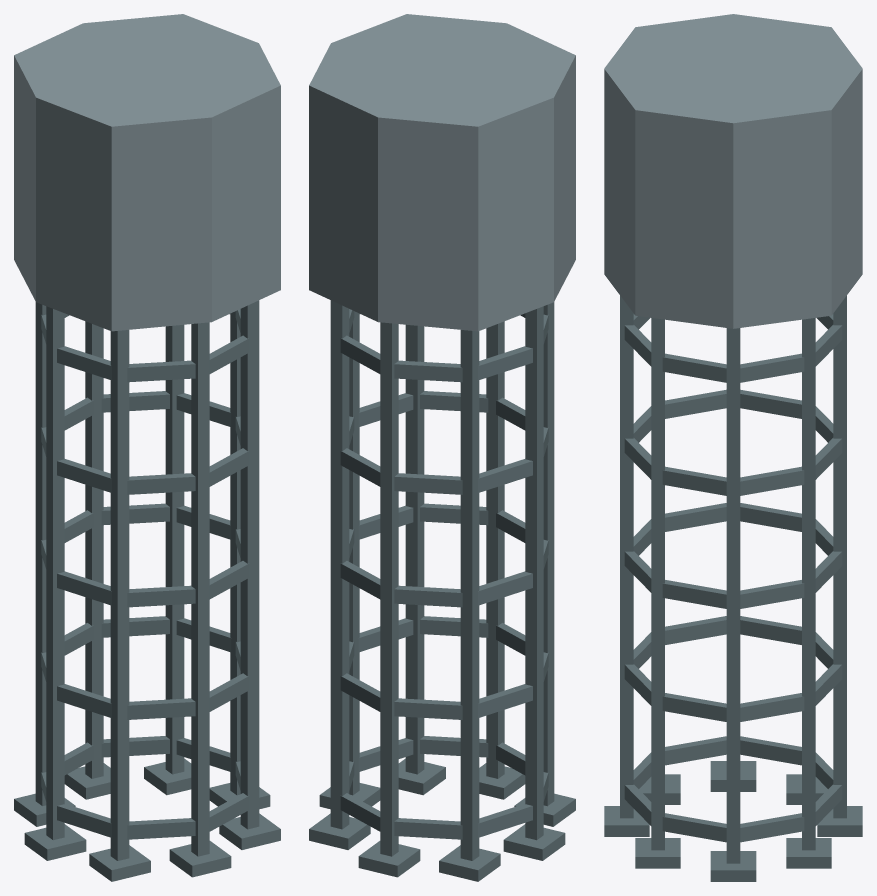
3 renders of one model, left to right at view 1: azimuth 30°, elevation 25°; view 2: azimuth 150°, elevation 25°; view 3: azimuth 270°, elevation 25°, orthographic.
Visible parts, largest first — view 1: water_tower; view 2: water_tower; view 3: water_tower.
Part boxes in pixels (x1,y1,x2,y2): water_tower: (14, 14, 280, 881); water_tower: (309, 14, 575, 881); water_tower: (604, 14, 862, 881).
Size of the model in its own units: 9.25 by 29.95 by 9.25.
